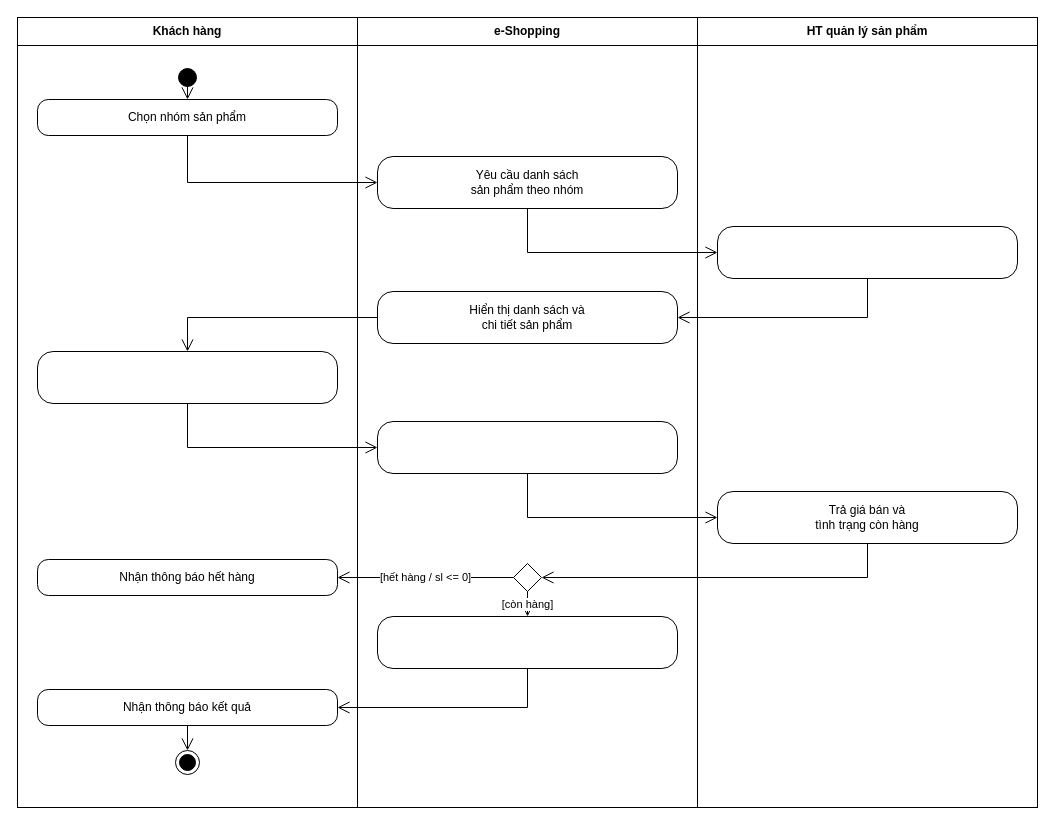
This 1055x825 diagram has some shape labels left out. Here are the shapes that lost their labels. From the top down, the box of each, then its label:
(716, 226, 1018, 278): Trả danh sách sản phẩm
(36, 350, 338, 404): Chọn sản phẩm, nhập số lượng, Thêm vào giỏ
(376, 420, 678, 474): Kiểm tra số lượng > 0; yêu cầu kiểm tra hàng
(376, 616, 678, 668): Thêm hoặc cộng dồn dòng vào giỏ hàng
